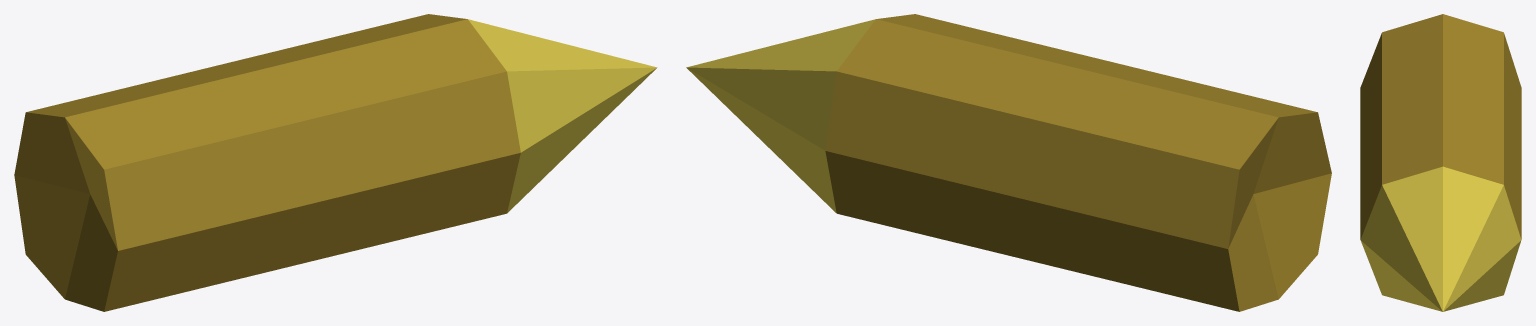
Rendered from bullet.fbx.
3 renders of one model, left to right at view 1: azimuth 30°, elevation 25°; view 2: azimuth 150°, elevation 25°; view 3: azimuth 270°, elevation 25°, orthographic. The views are drawn at different scales.
Parts seen in each view (by area): view 1: Cube; view 2: Cube; view 3: Cube.
Boxes of the visible parts, box(x1,y1,x2,y2) form: Cube: box(14, 14, 657, 311); Cube: box(686, 14, 1331, 311); Cube: box(1360, 14, 1521, 311).
Size of the model in its own units: 105 by 30.71 by 31.71.
